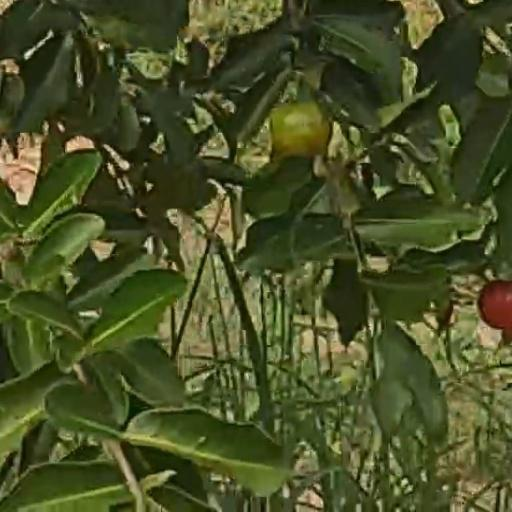acerola_vermelha: (273, 105, 330, 155), (477, 278, 512, 325)
